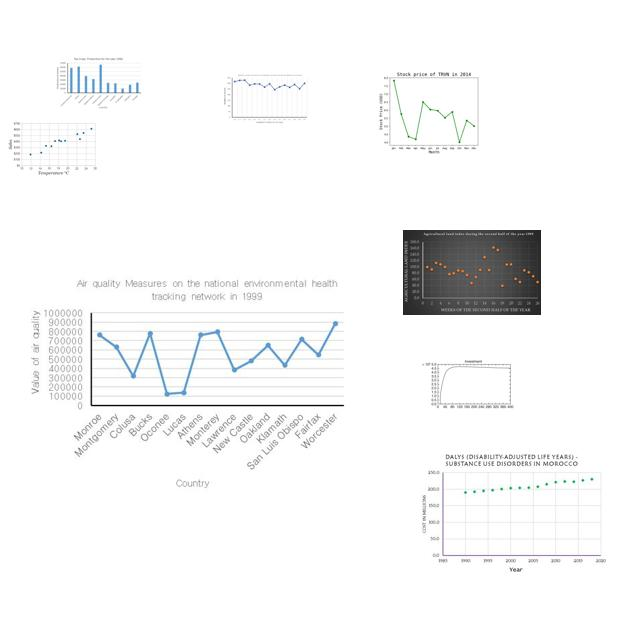Graph: (20, 270, 350, 494), (418, 451, 609, 574), (403, 230, 541, 315), (374, 67, 491, 155), (421, 356, 515, 412), (8, 120, 98, 176), (54, 56, 143, 109), (222, 72, 309, 126)
